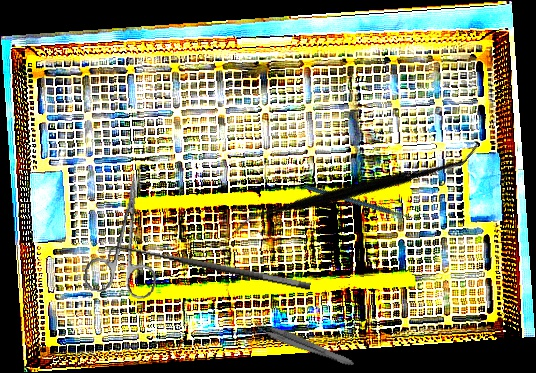Chopper: (304, 149, 423, 253)
Hook Surgical: (105, 237, 312, 307)
Iris Scissors: (81, 168, 175, 302)
Spatula Surgical: (233, 61, 481, 315)
Tissue Forceps: (249, 317, 358, 369)
